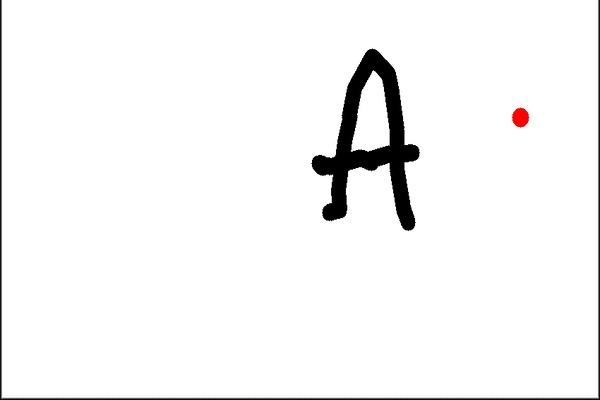A: (302, 43, 427, 236)
